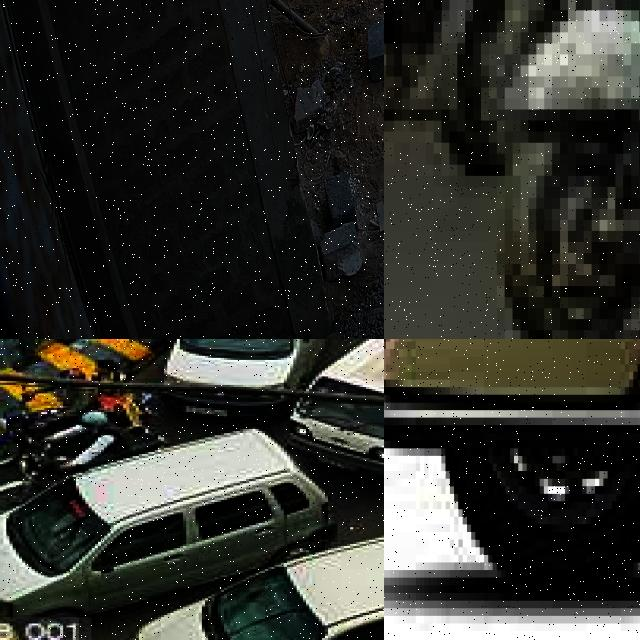bike: (384, 339, 640, 600), (497, 0, 640, 339), (449, 0, 607, 176), (384, 0, 520, 187), (0, 401, 148, 435)
